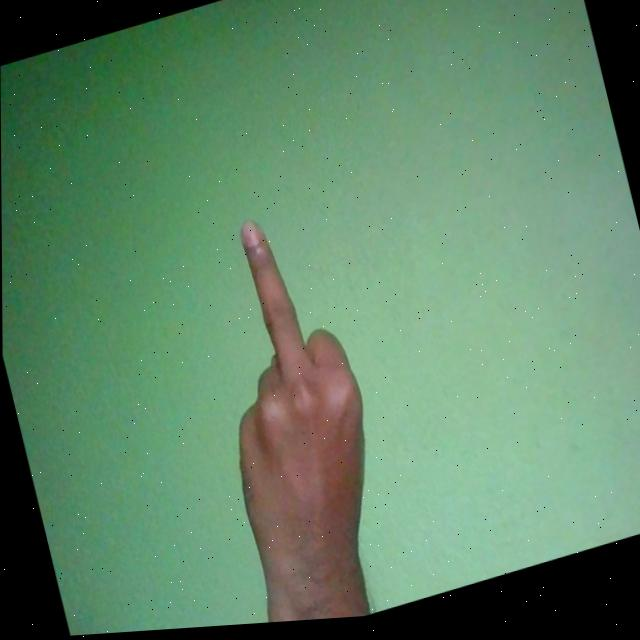Middle Finger: (180, 199, 409, 631)
